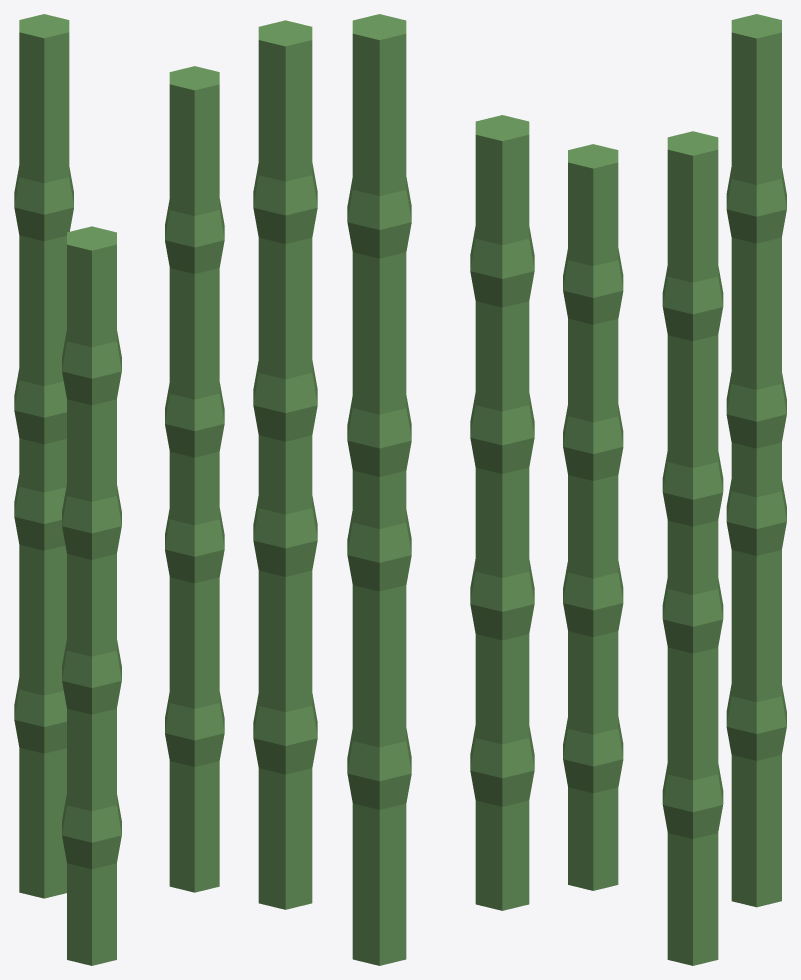
File: veg_bamboo_tall.glb
3 renders of one model, left to right at view 1: azimuth 30°, elevation 25°; view 2: azimuth 150°, elevation 25°; view 3: azimuth 270°, elevation 25°, orthographic. The views are drawn at different scales.
Visible parts, largest first — view 1: clump_0; view 2: clump_0; view 3: clump_0.
Part boxes in pixels (x1=…): clump_0: x1=14, y1=14, x2=224, y2=965; clump_0: x1=253, y1=14, x2=534, y2=965; clump_0: x1=563, y1=14, x2=786, y2=965.
Bounding box in the file's own units: 0.4591 × 1.78 × 0.4158.
